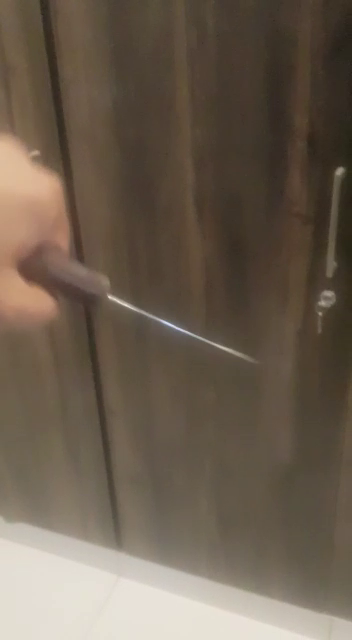knife: (15, 219, 264, 385)
